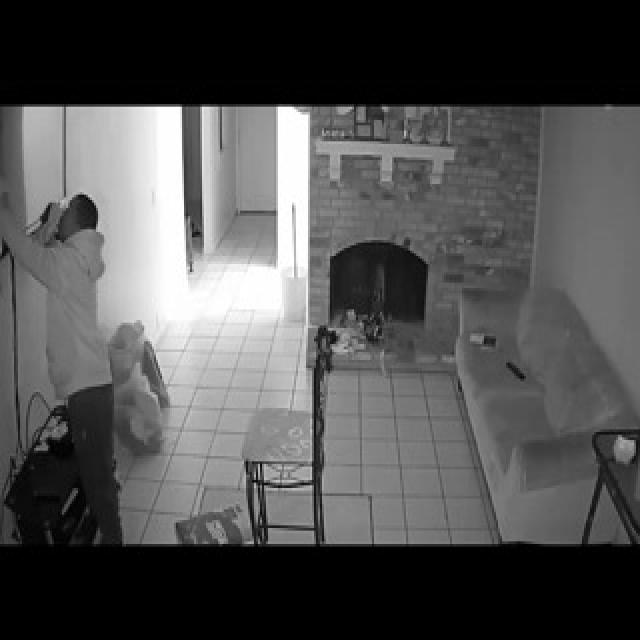thief: (32, 177, 119, 383)
